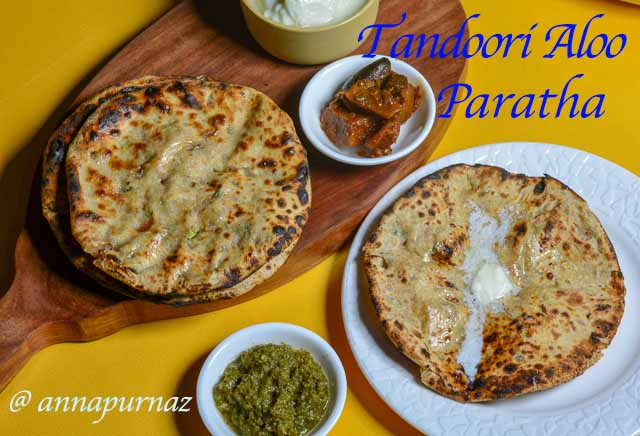aloo_paratha: (362, 165, 629, 406), (41, 75, 315, 304)
